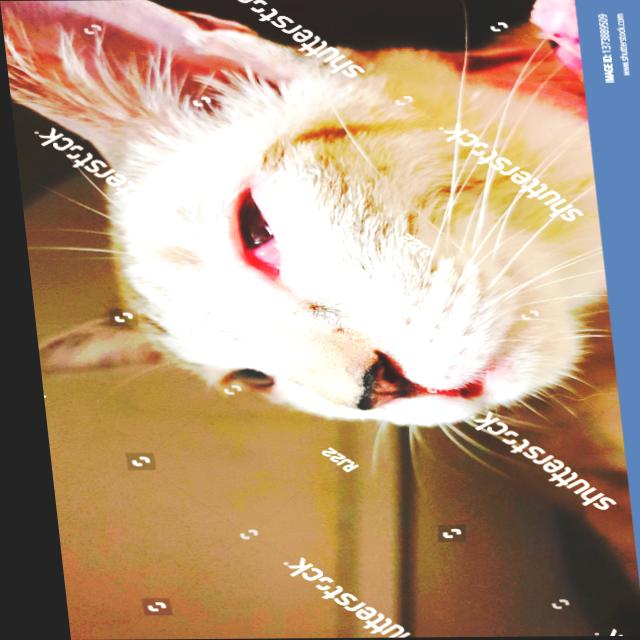eye_infection: (238, 186, 284, 271)
